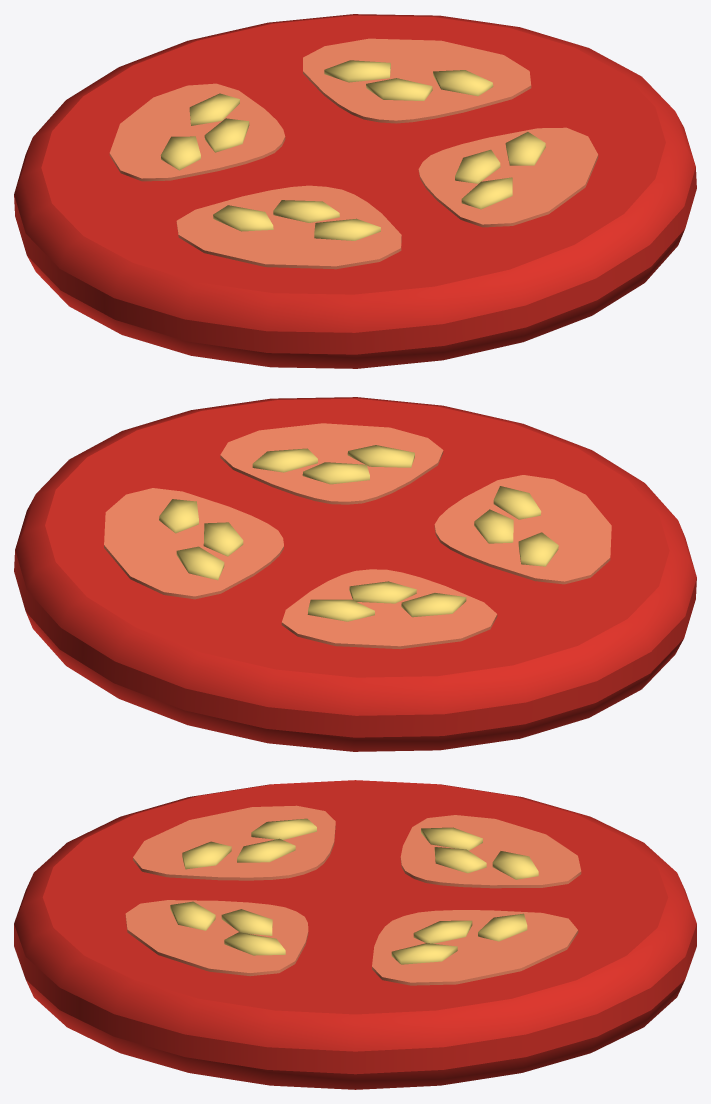
The model's file is Food_Tomato.fbx.
The picture shows the model from 3 angles, top to bottom: view 1: azimuth 30°, elevation 25°; view 2: azimuth 150°, elevation 25°; view 3: azimuth 270°, elevation 25°; orthographic projection.
Visible parts, largest first — view 1: Flesh, Core, Seeds; view 2: Flesh, Core, Seeds; view 3: Flesh, Core, Seeds.
Boxes of the visible parts, bbox=[...] form: Flesh: bbox=[14, 14, 696, 368]; Core: bbox=[109, 38, 598, 269]; Seeds: bbox=[160, 60, 545, 240]; Flesh: bbox=[14, 397, 696, 751]; Core: bbox=[104, 423, 611, 649]; Seeds: bbox=[159, 445, 558, 621]; Flesh: bbox=[14, 780, 696, 1089]; Core: bbox=[125, 805, 581, 985]; Seeds: bbox=[170, 818, 538, 964].
Size of the model in its own units: 84.04 by 14.66 by 84.
